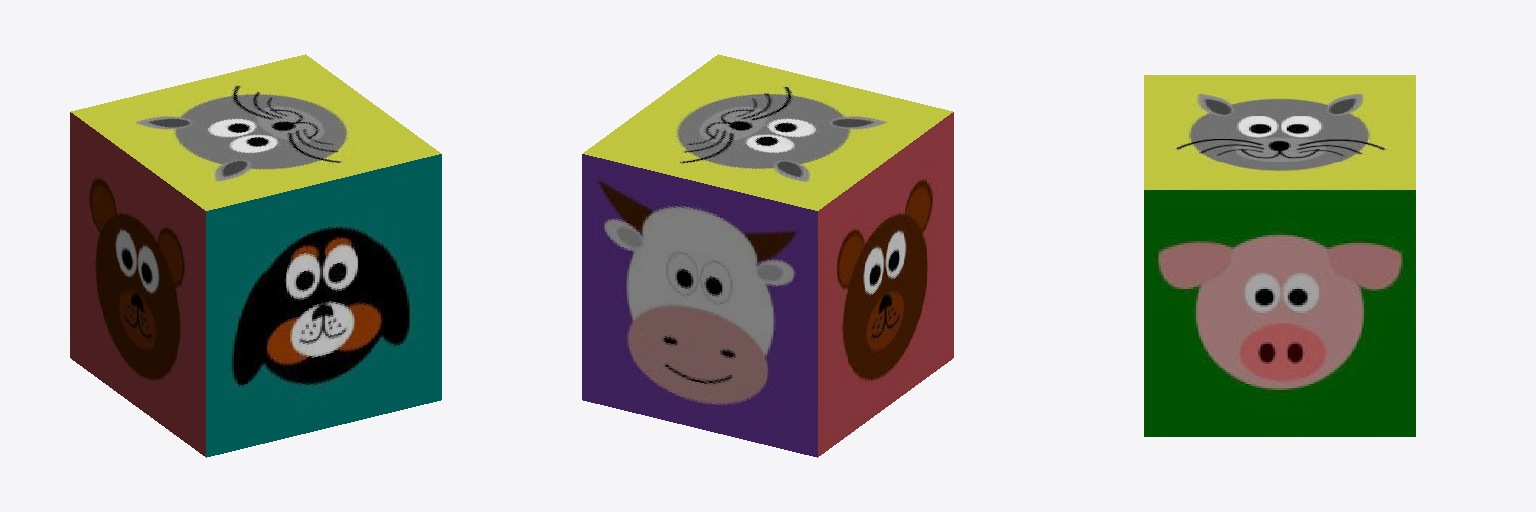
3 views of the same model, side by side, from view 1: azimuth 30°, elevation 25°; view 2: azimuth 150°, elevation 25°; view 3: azimuth 270°, elevation 25° (orthographic).
Visible parts, largest first — view 1: Cube; view 2: Cube; view 3: Cube.
Boxes of the visible parts, x1=… form: Cube: x1=70, y1=54, x2=441, y2=457; Cube: x1=582, y1=54, x2=953, y2=457; Cube: x1=1144, y1=75, x2=1415, y2=436.
Bounding box in the file's own units: 2 × 2 × 2.
Materials: 1 (1 with a texture image).